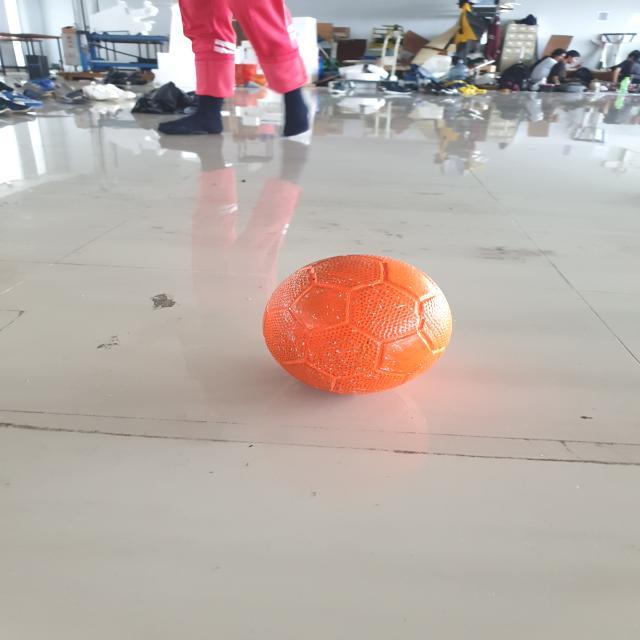bola: (240, 242, 494, 407)
